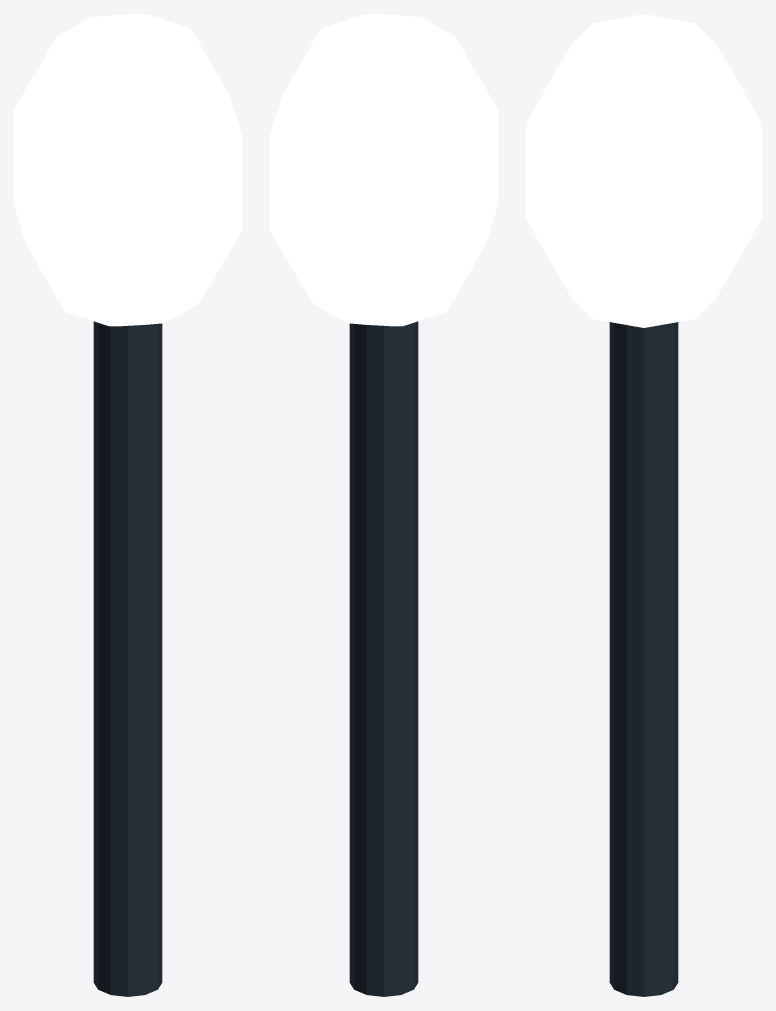
Rendered from objects-torch.lod0.glb.
The picture shows the model from 3 angles, left to right: view 1: azimuth 30°, elevation 25°; view 2: azimuth 150°, elevation 25°; view 3: azimuth 270°, elevation 25°; orthographic projection.
Visible parts, largest first — view 1: objects-torch__body; view 2: objects-torch__body; view 3: objects-torch__body.
Boxes of the visible parts, x1=… form: objects-torch__body: x1=14, y1=14, x2=241, y2=996; objects-torch__body: x1=270, y1=14, x2=497, y2=996; objects-torch__body: x1=526, y1=14, x2=761, y2=996.
Bounding box in the file's own units: 0.3424 × 1.55 × 0.3424.
